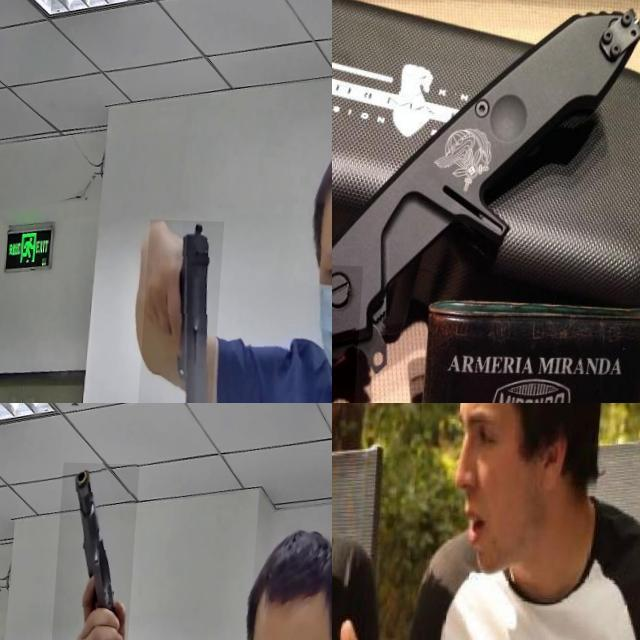-: (332, 258, 465, 403)
gun-knife-thesis - v11 Yolov5 augmented: (142, 217, 229, 403), (53, 460, 142, 640)
